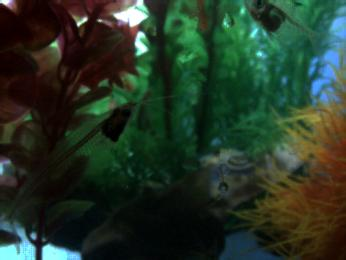X-ray fish: (241, 1, 332, 57)
glassfish: (1, 100, 139, 231)
